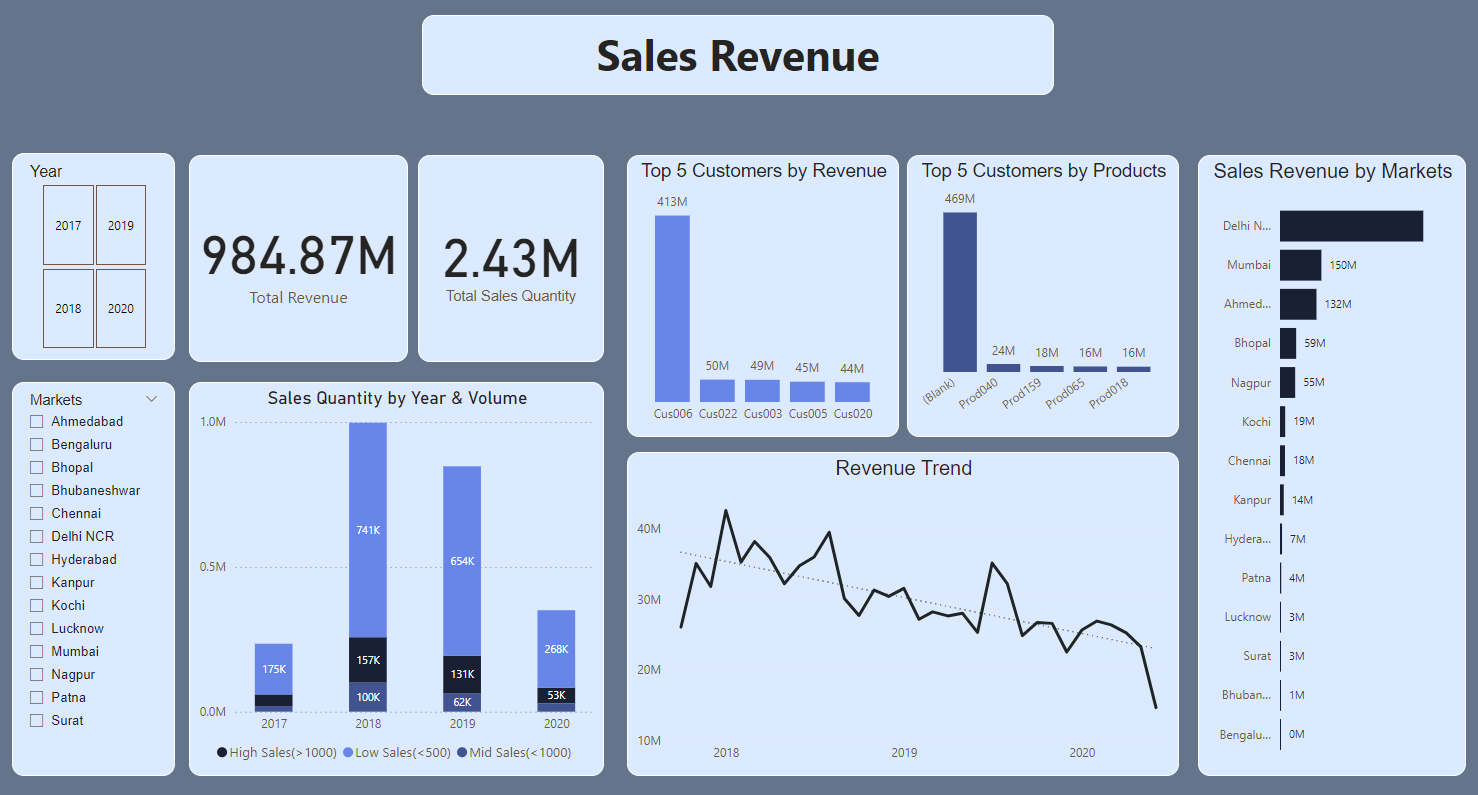

This screenshot's page, from the dashboard's own definition file:
{"tool":"powerbi","page":{"name":"Sales Analysis","canvas":[1480,800],"ordinal":0},"visuals":[{"type":"card","fields":{"Values":["Sum(sales transactions.Sales_revenue)"]},"box":[191,156,219,207],"z":0},{"type":"slicer","fields":{"Values":["sales date.year"]},"box":[14,154,163,207],"z":1000},{"type":"slicer","fields":{"Values":["sales markets.markets_name"]},"box":[14,383,163,394],"z":2000},{"type":"barChart","title":"Sales Revenue by Markets","fields":{"Category":["sales markets.markets_name"],"Y":["Sum(sales transactions.Sales_revenue)"]},"box":[1200,156,268,621],"z":3000},{"type":"lineChart","title":"Revenue Trend","fields":{"Y":["Sum(sales transactions.Sales_revenue)"],"Category":["sales date.date.Variation.Date Hierarchy.Year","sales date.date.Variation.Date Hierarchy.Quarter","sales date.date.Variation.Date Hierarchy.Month"]},"box":[629,453,552,324],"z":4000},{"type":"card","title":"Total Sales Quantity","fields":{"Values":["Sum(sales transactions.sales_qty)"]},"box":[420,156,186,207],"z":5000},{"type":"textbox","box":[424,16,632,80],"z":6000},{"type":"columnChart","title":"Top 5 Customers by Revenue","fields":{"Y":["Sum(sales transactions.Sales_revenue)"],"Category":["sales transactions.customer_code"]},"box":[629,156,272,282],"z":7000},{"type":"ribbonChart","title":"Sales Quantity by Year & Volume","fields":{"Category":["sales date.year"],"Y":["Sum(sales transactions.sales_qty)"],"Series":["sales transactions.Sales_clusters"]},"box":[191,383,415,394],"z":8000},{"type":"columnChart","title":"Top 5 Customers by Products","fields":{"Y":["Sum(sales transactions.Sales_revenue)"],"Category":["sales products.product_code"]},"box":[909,156,272,282],"z":9000}]}

Visuals, with their boxes in screenshot pixels (x1, y1, x2, y2), scaled from the page's 1480x800 canvas onto the 1478x795 screenshot:
card - Sum(sales transactions.Sales_revenue): 191, 155, 409, 361
slicer - sales date.year: 14, 153, 177, 359
slicer - sales markets.markets_name: 14, 381, 177, 772
"Sales Revenue by Markets" barChart: 1198, 155, 1466, 772
"Revenue Trend" lineChart: 628, 450, 1179, 772
"Total Sales Quantity" card: 419, 155, 605, 361
textbox: 423, 16, 1055, 95
"Top 5 Customers by Revenue" columnChart: 628, 155, 900, 435
"Sales Quantity by Year & Volume" ribbonChart: 191, 381, 605, 772
"Top 5 Customers by Products" columnChart: 908, 155, 1179, 435
